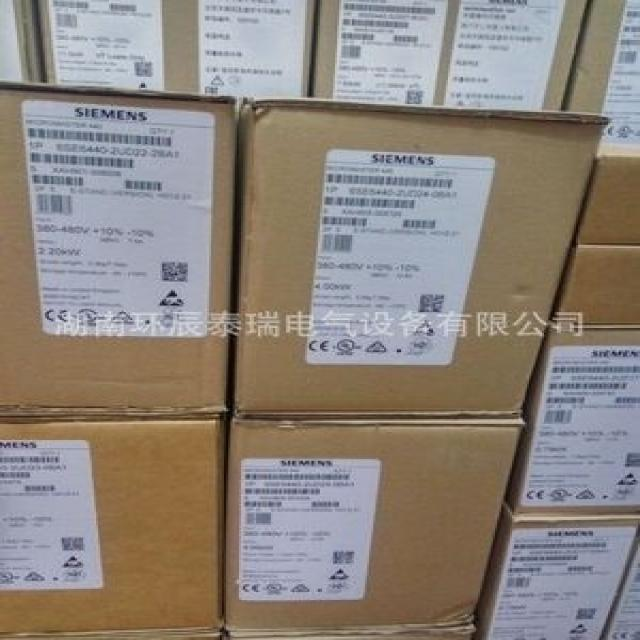box: (228, 98, 612, 418), (0, 80, 239, 416), (224, 418, 525, 632), (0, 413, 224, 638), (314, 0, 589, 110), (41, 0, 314, 99), (503, 325, 640, 515), (474, 510, 640, 638), (567, 0, 640, 144), (548, 243, 640, 325), (572, 144, 640, 243), (602, 528, 640, 640), (0, 0, 45, 83), (228, 626, 476, 640)
